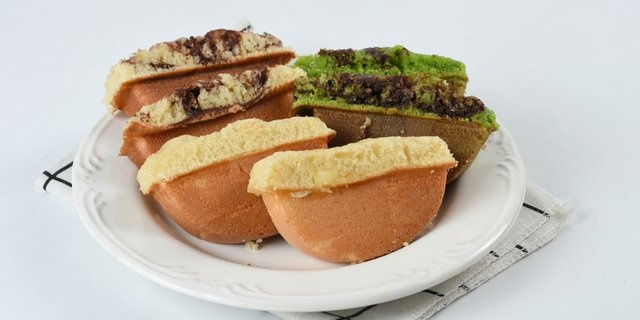pukis: (257, 126, 454, 274)
